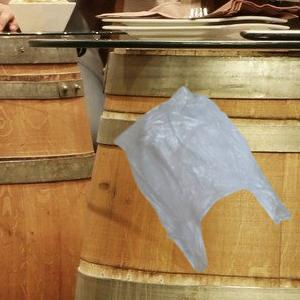plastic_bag: (108, 85, 294, 275)
